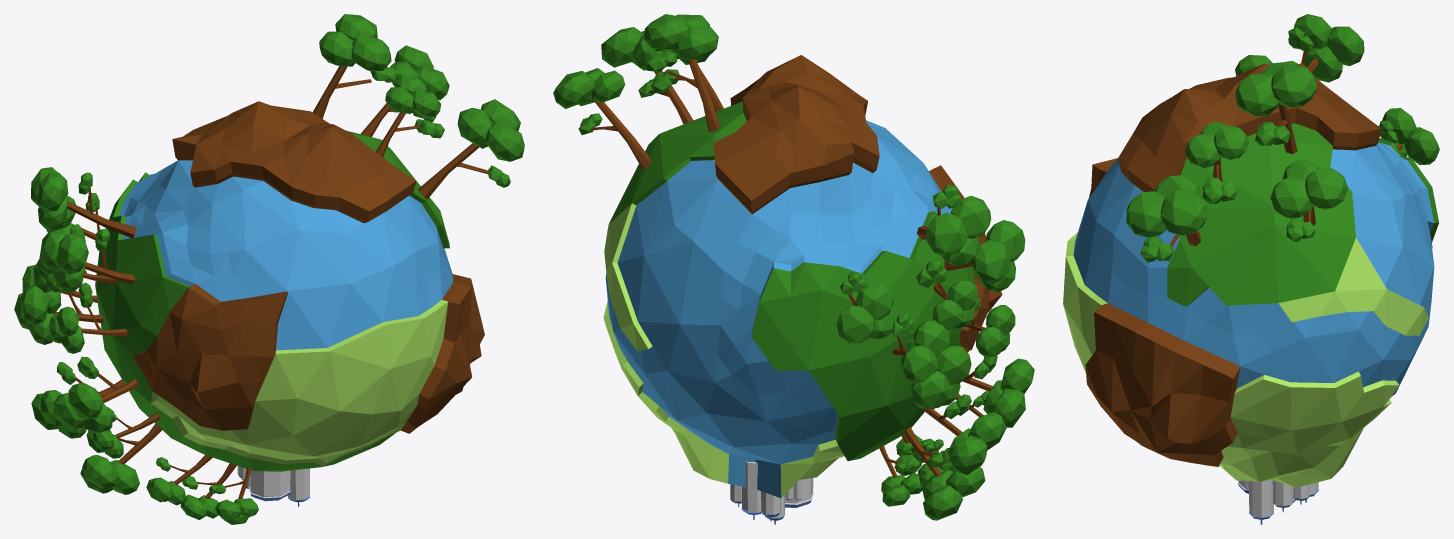
File: naboo_zoom.dae
The picture shows the model from 3 angles, left to right: view 1: azimuth 30°, elevation 25°; view 2: azimuth 150°, elevation 25°; view 3: azimuth 270°, elevation 25°; orthographic projection. The views are drawn at different scales.
Visible parts, largest first — view 1: kamino; view 2: kamino; view 3: kamino.
Boxes of the visible parts, x1,y1,x2,y2 form: kamino: (14,14,524,524); kamino: (553,14,1034,524); kamino: (1063,14,1439,524).
Bounding box in the file's own units: 7.62 × 5.45 × 7.86.
